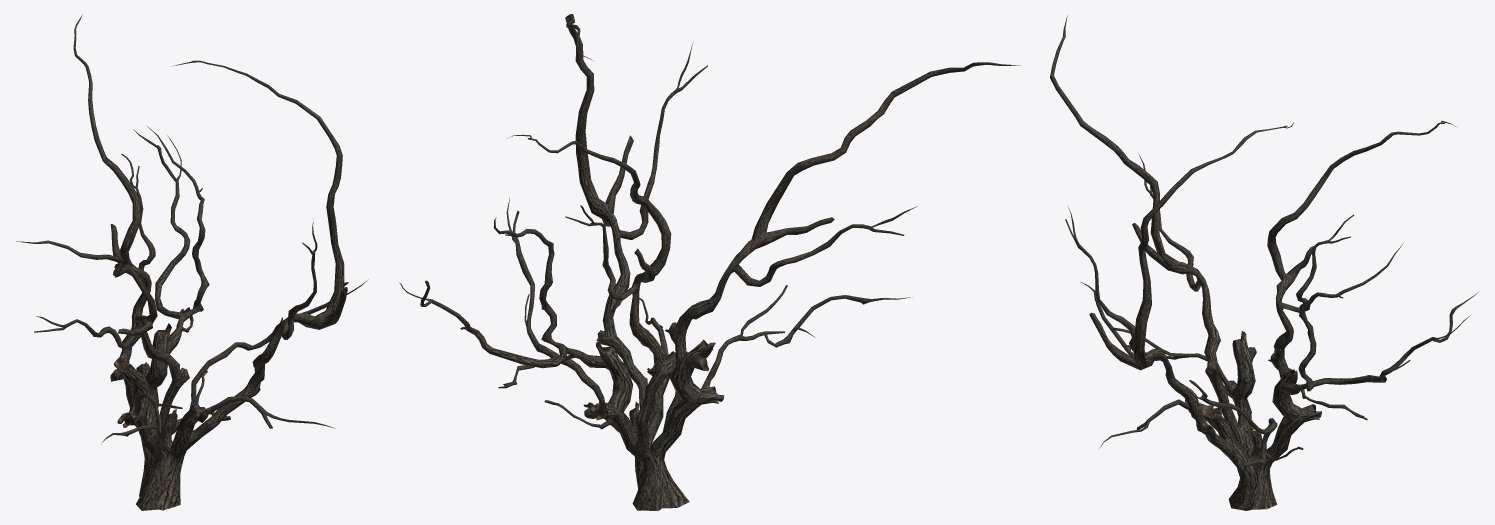
File: trees_branch_1_05.fbx
3 renders of one model, left to right at view 1: azimuth 30°, elevation 25°; view 2: azimuth 150°, elevation 25°; view 3: azimuth 270°, elevation 25°, orthographic. The views are drawn at different scales.
Parts seen in each view (by area): view 1: trees_branch_1_05.ogf 01, trees_branch_1_05.ogf 00; view 2: trees_branch_1_05.ogf 01; view 3: trees_branch_1_05.ogf 01, trees_branch_1_05.ogf 00.
Boxes of the visible parts, x1,y1,x2,y2 form: trees_branch_1_05.ogf 01: (16, 14, 368, 510); trees_branch_1_05.ogf 00: (110, 282, 348, 430); trees_branch_1_05.ogf 01: (399, 14, 1020, 510); trees_branch_1_05.ogf 01: (1050, 15, 1479, 510); trees_branch_1_05.ogf 00: (1185, 297, 1343, 470).
Bounding box in the file's own units: 2209 × 2136 × 2064.
